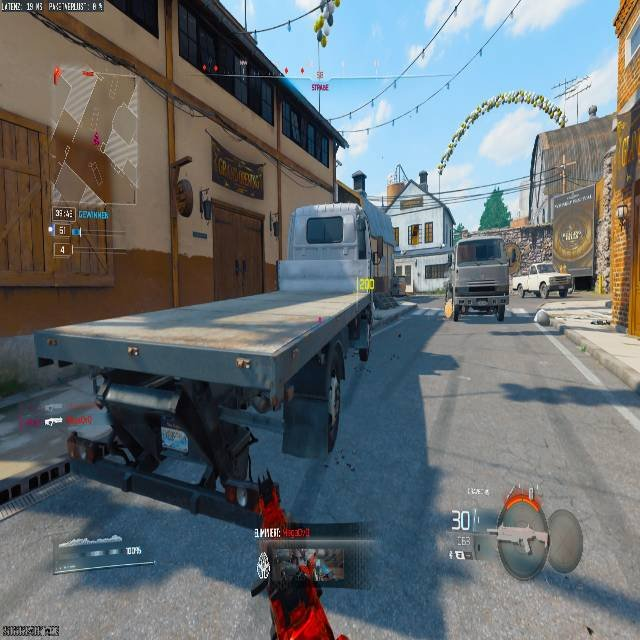player: (258, 549, 325, 639)
